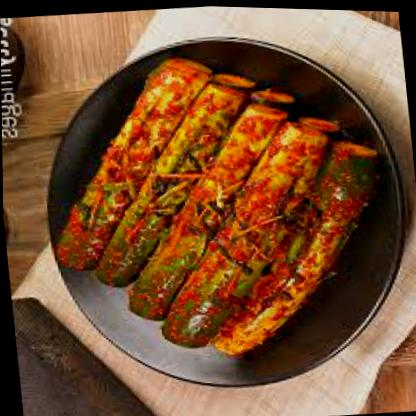cucumber kimchi: (51, 62, 373, 349)
